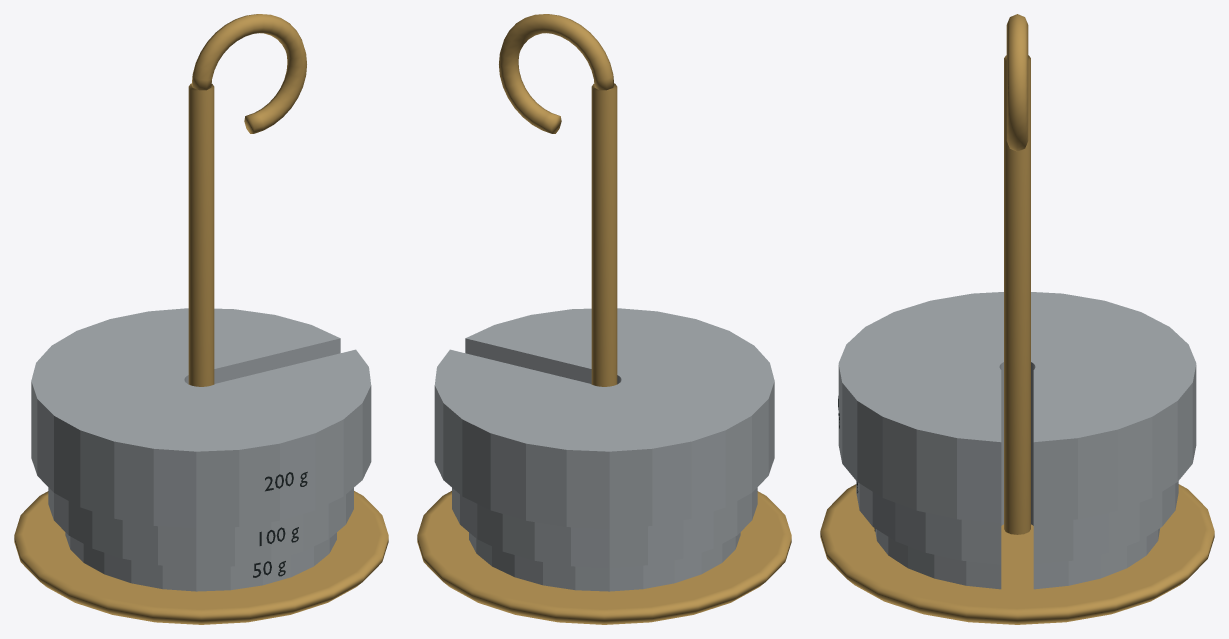
File: VLAB_masses.fbx
3 renders of one model, left to right at view 1: azimuth 30°, elevation 25°; view 2: azimuth 150°, elevation 25°; view 3: azimuth 270°, elevation 25°, orthographic. The views are drawn at different scales.
Visible parts, largest first — view 1: VLAB_masses_Mass200_VIS, VLAB_masses_Hanger_VIS, VLAB_masses_Mass100_VIS, VLAB_masses_Mass50_VIS; view 2: VLAB_masses_Mass200_VIS, VLAB_masses_Hanger_VIS, VLAB_masses_Mass100_VIS, VLAB_masses_Mass50_VIS; view 3: VLAB_masses_Mass200_VIS, VLAB_masses_Hanger_VIS, VLAB_masses_Mass100_VIS, VLAB_masses_Mass50_VIS.
Boxes of the visible parts, <box> form: VLAB_masses_Mass200_VIS: <box>31,308,371,528</box>; VLAB_masses_Hanger_VIS: <box>14,14,388,624</box>; VLAB_masses_Mass100_VIS: <box>48,487,353,567</box>; VLAB_masses_Mass50_VIS: <box>65,532,336,591</box>; VLAB_masses_Mass200_VIS: <box>434,308,774,528</box>; VLAB_masses_Hanger_VIS: <box>417,14,791,624</box>; VLAB_masses_Mass100_VIS: <box>452,487,757,567</box>; VLAB_masses_Mass50_VIS: <box>469,532,740,591</box>; VLAB_masses_Mass200_VIS: <box>838,292,1196,523</box>; VLAB_masses_Hanger_VIS: <box>820,14,1214,624</box>; VLAB_masses_Mass100_VIS: <box>856,443,1178,564</box>; VLAB_masses_Mass50_VIS: <box>874,492,1160,589</box>.
Size of the model in its own units: 0.044 by 0.0677 by 0.044.
